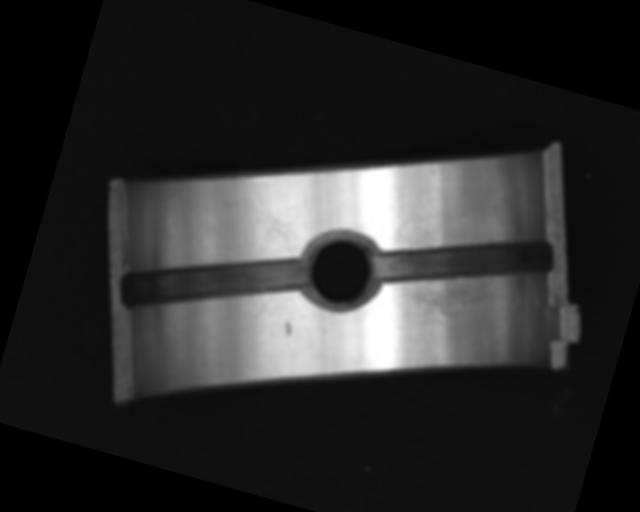bruise: (282, 319, 295, 338)
gap: (117, 214, 311, 352), (371, 197, 558, 321)
hole: (293, 222, 389, 319)
scratch: (396, 258, 507, 334)
